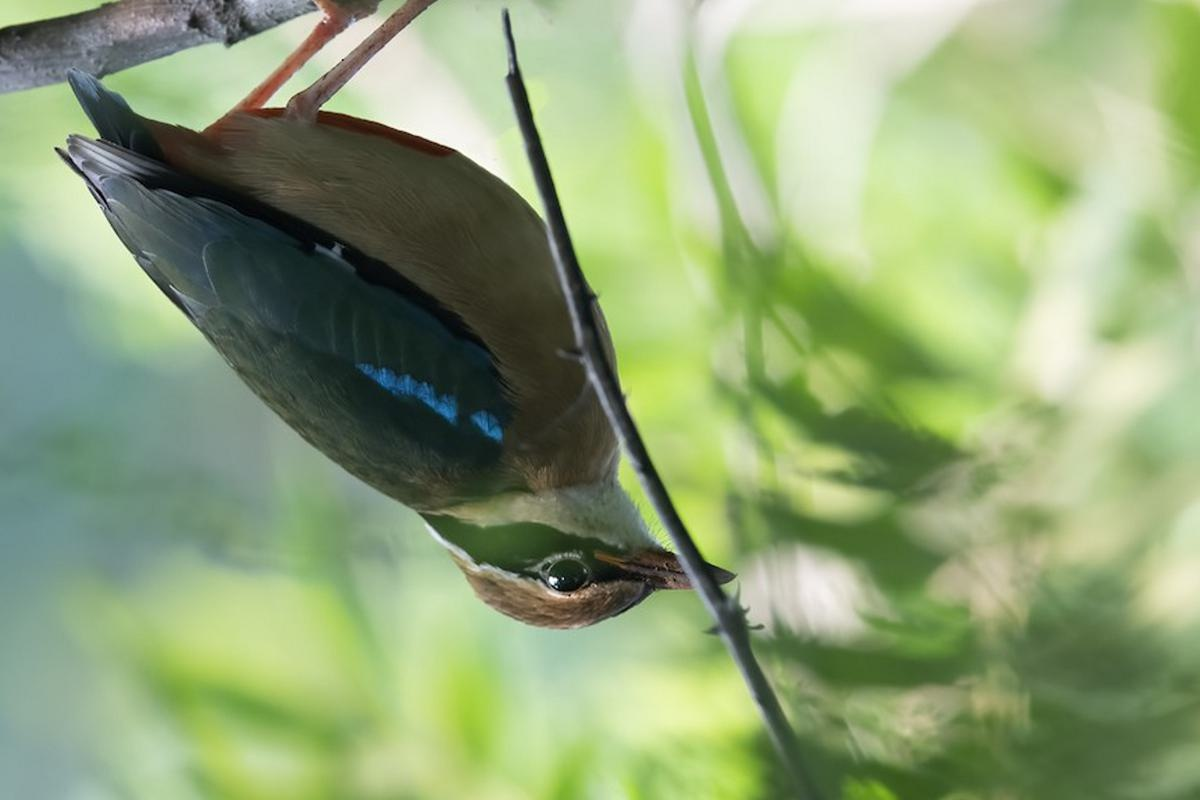pitta: (34, 31, 800, 655)
